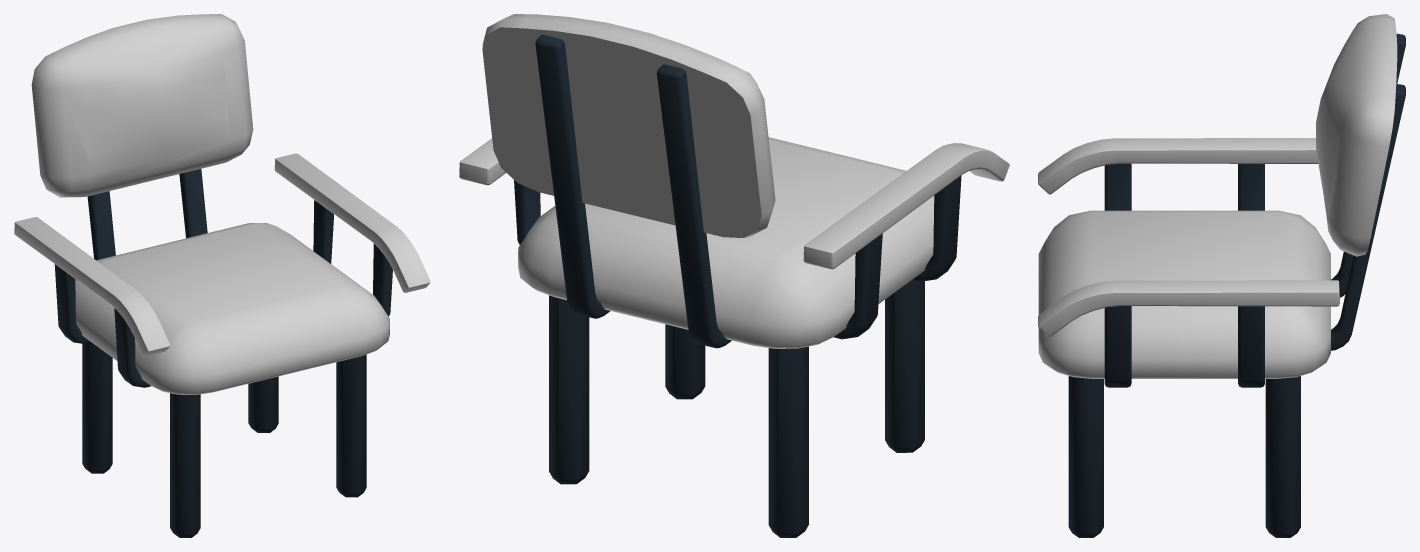
The model's file is Chair-3.fbx.
The picture shows the model from 3 angles, left to right: view 1: azimuth 30°, elevation 25°; view 2: azimuth 150°, elevation 25°; view 3: azimuth 270°, elevation 25°; orthographic projection. The views are drawn at different scales.
Visible parts, largest first — view 1: Chair-3; view 2: Chair-3; view 3: Chair-3.
Part boxes in pixels (x1,y1,x2,y2): Chair-3: (14, 14, 430, 537); Chair-3: (459, 14, 1009, 537); Chair-3: (1038, 14, 1405, 537).
Bounding box in the file's own units: 0.5457 × 0.7214 × 0.5457.
